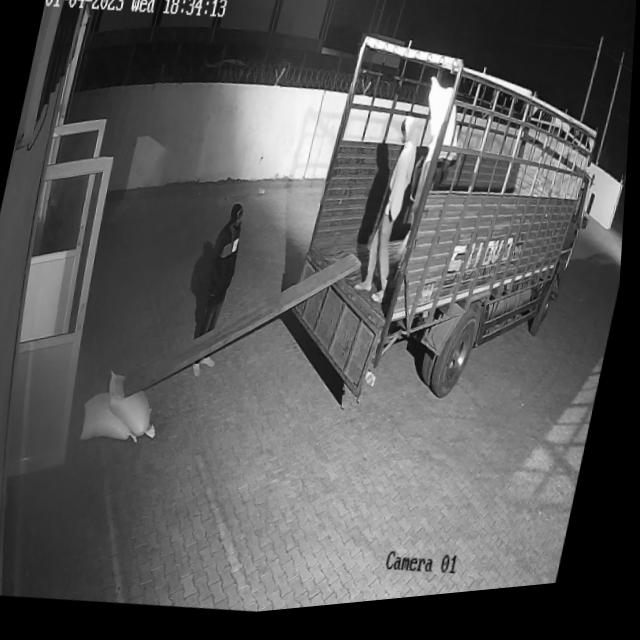sack: (415, 82, 475, 176), (101, 368, 173, 446), (82, 387, 154, 452)
